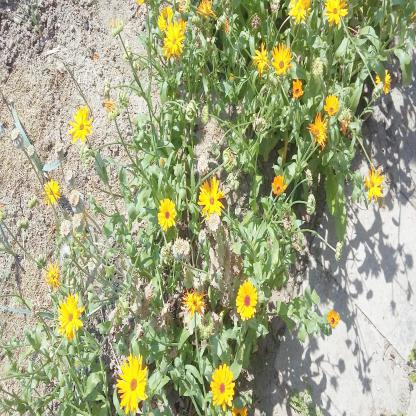marigold: (114, 355, 150, 416), (56, 292, 85, 342), (198, 174, 226, 218), (210, 362, 235, 411), (67, 104, 94, 146), (236, 278, 258, 321), (362, 163, 384, 203), (306, 108, 327, 149), (162, 20, 184, 58), (268, 43, 292, 75), (39, 178, 62, 210), (323, 1, 348, 29), (158, 195, 177, 230), (289, 0, 312, 25), (375, 64, 391, 96), (157, 6, 174, 30), (324, 93, 340, 118)
